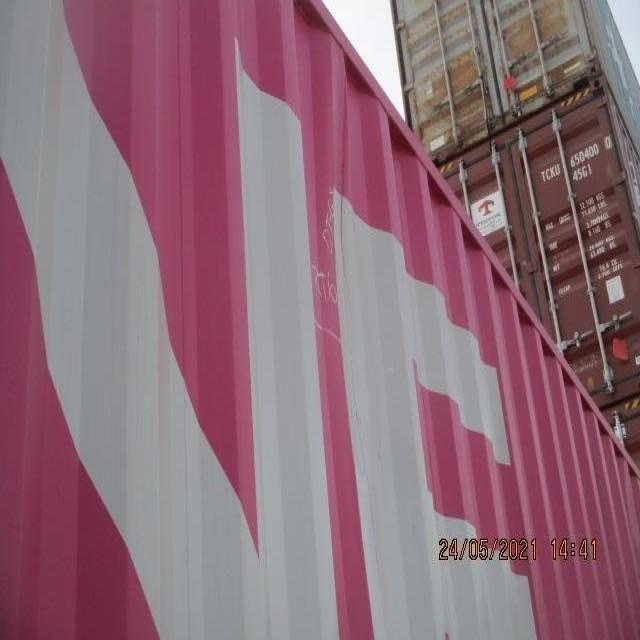dent: (261, 100, 424, 445)
